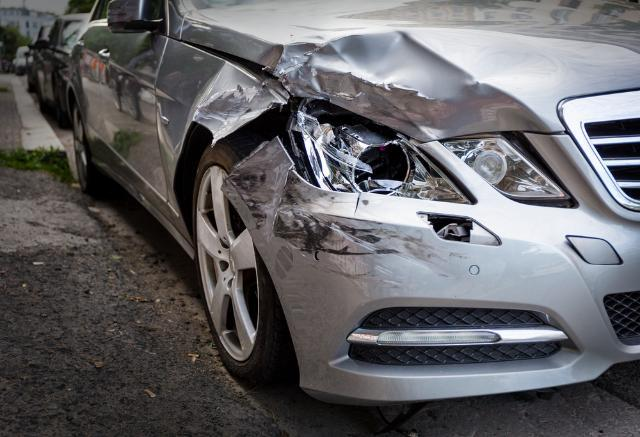crack: (354, 193, 361, 216)
dent: (258, 32, 550, 140), (194, 63, 279, 134)
dislocated part: (214, 99, 618, 401)
lamp broken: (293, 100, 471, 204)
scratch: (222, 140, 465, 283)
